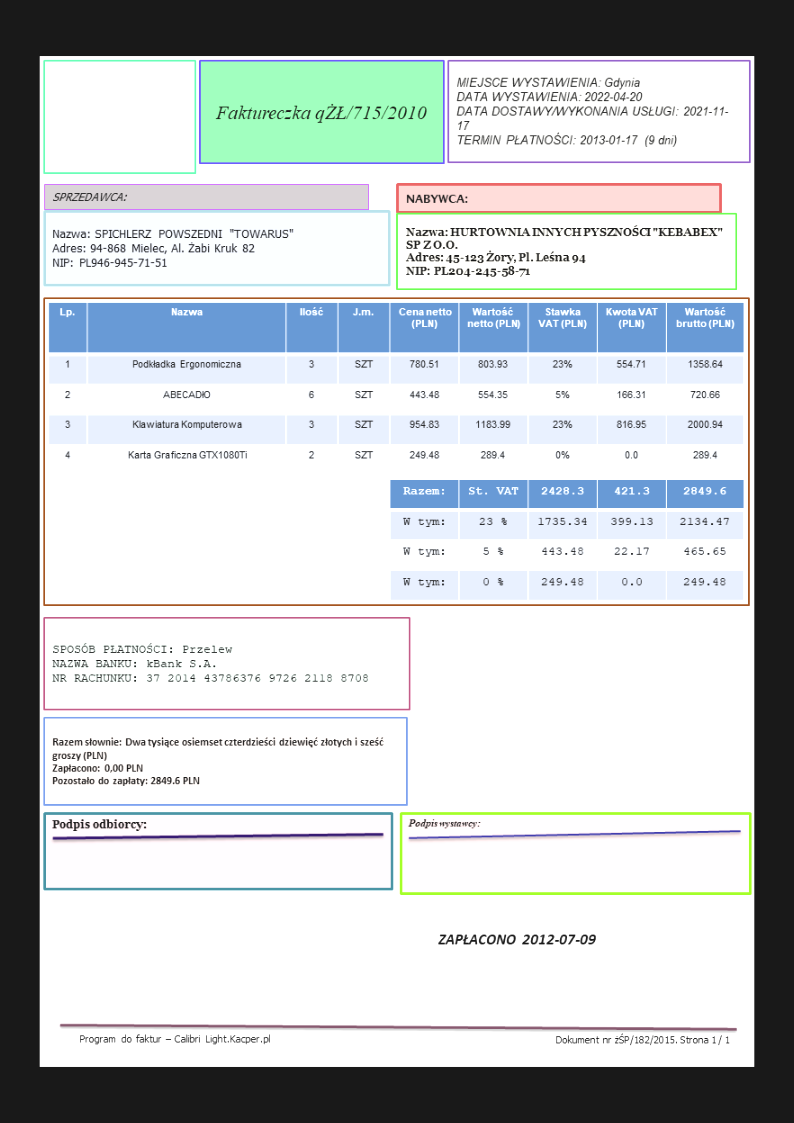Table: (47, 299, 743, 476), (389, 477, 745, 602)
TextBox: (455, 73, 730, 152), (50, 733, 385, 789), (402, 224, 727, 278), (50, 640, 371, 687), (49, 223, 296, 272), (211, 100, 428, 125), (76, 1030, 272, 1048), (436, 929, 599, 948), (554, 1031, 733, 1048), (49, 814, 148, 834), (405, 813, 481, 830), (51, 188, 127, 204), (402, 190, 468, 207)
